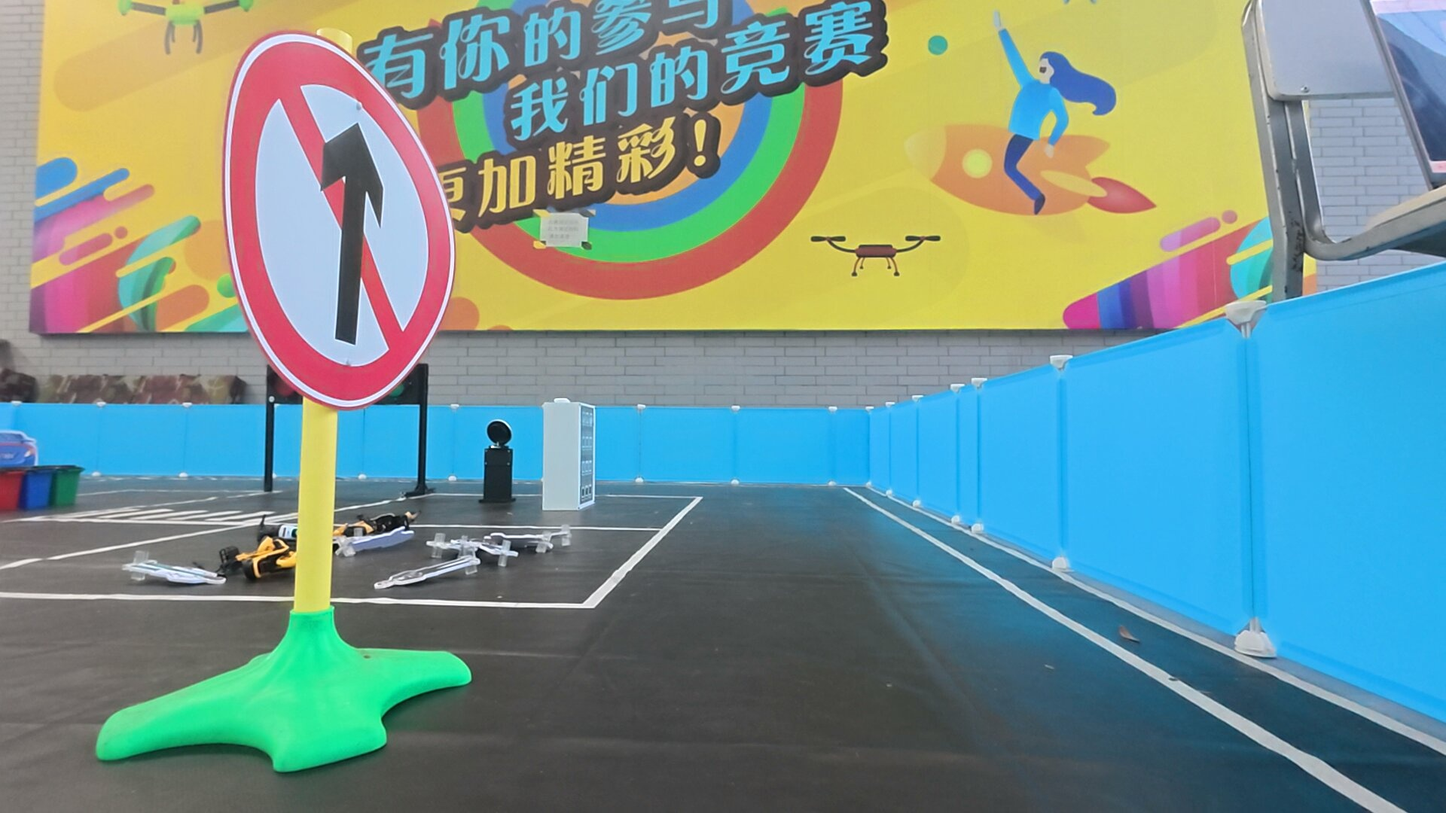obstacle: (212, 31, 468, 420)
